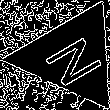N_NE: (36, 26, 107, 87)
